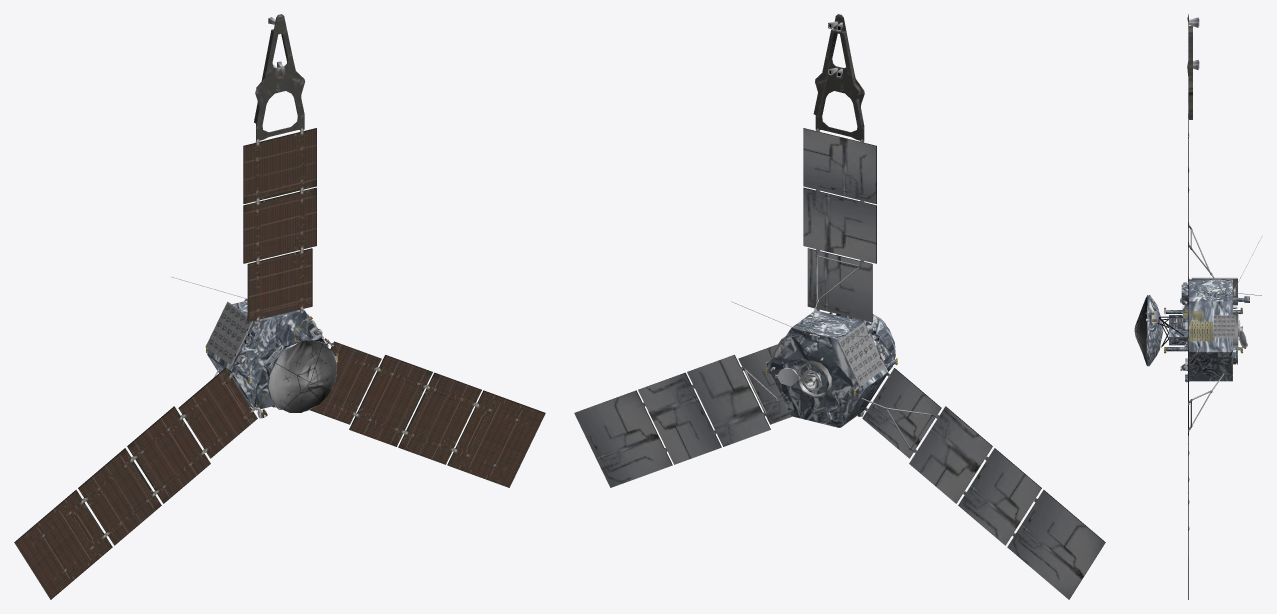
Rendered from juno.glb.
The picture shows the model from 3 angles, left to right: view 1: azimuth 30°, elevation 25°; view 2: azimuth 150°, elevation 25°; view 3: azimuth 270°, elevation 25°; orthographic projection. The views are drawn at different scales.
Parts seen in each view (by area): view 1: shiny_panels_Geometry-Body.021, dish_bottom_Geometry-Mesh, dish_top_Geometry-Mesh.002, solar_panels_Geometry-Body.006, tex_01_Geometry-Body.003, black_krinkle_Geometry-Body.007; view 2: solar_panels_Geometry-Body.006, dish_bottom_Geometry-Mesh, tex_01_Geometry-Body.003, black_krinkle_Geometry-Body.007; view 3: dish_bottom_Geometry-Mesh, tex_01_Geometry-Body.003, black_krinkle_Geometry-Body.007, dish_top_Geometry-Mesh.002, solar_panels_Geometry-Body.006.
Boxes of the visible parts, left/top/right/bottom form: shiny_panels_Geometry-Body.021: left=15, top=128, right=545, bottom=599; dish_bottom_Geometry-Mesh: left=207, top=299, right=336, bottom=411; dish_top_Geometry-Mesh.002: left=269, top=340, right=336, bottom=412; solar_panels_Geometry-Body.006: left=254, top=14, right=469, bottom=421; tex_01_Geometry-Body.003: left=81, top=17, right=478, bottom=537; black_krinkle_Geometry-Body.007: left=14, top=128, right=544, bottom=599; solar_panels_Geometry-Body.006: left=574, top=14, right=1104, bottom=599; dish_bottom_Geometry-Mesh: left=742, top=251, right=935, bottom=451; tex_01_Geometry-Body.003: left=642, top=21, right=1037, bottom=536; black_krinkle_Geometry-Body.007: left=576, top=128, right=1105, bottom=599; dish_bottom_Geometry-Mesh: left=1147, top=225, right=1249, bottom=429; tex_01_Geometry-Body.003: left=1145, top=17, right=1262, bottom=530; black_krinkle_Geometry-Body.007: left=1157, top=137, right=1188, bottom=599; dish_top_Geometry-Mesh.002: left=1134, top=295, right=1147, bottom=365; solar_panels_Geometry-Body.006: left=1187, top=14, right=1192, bottom=135.
Bounding box in the file's own units: 19.47 × 18.54 × 4.47.
9 materials, 9 textured.
